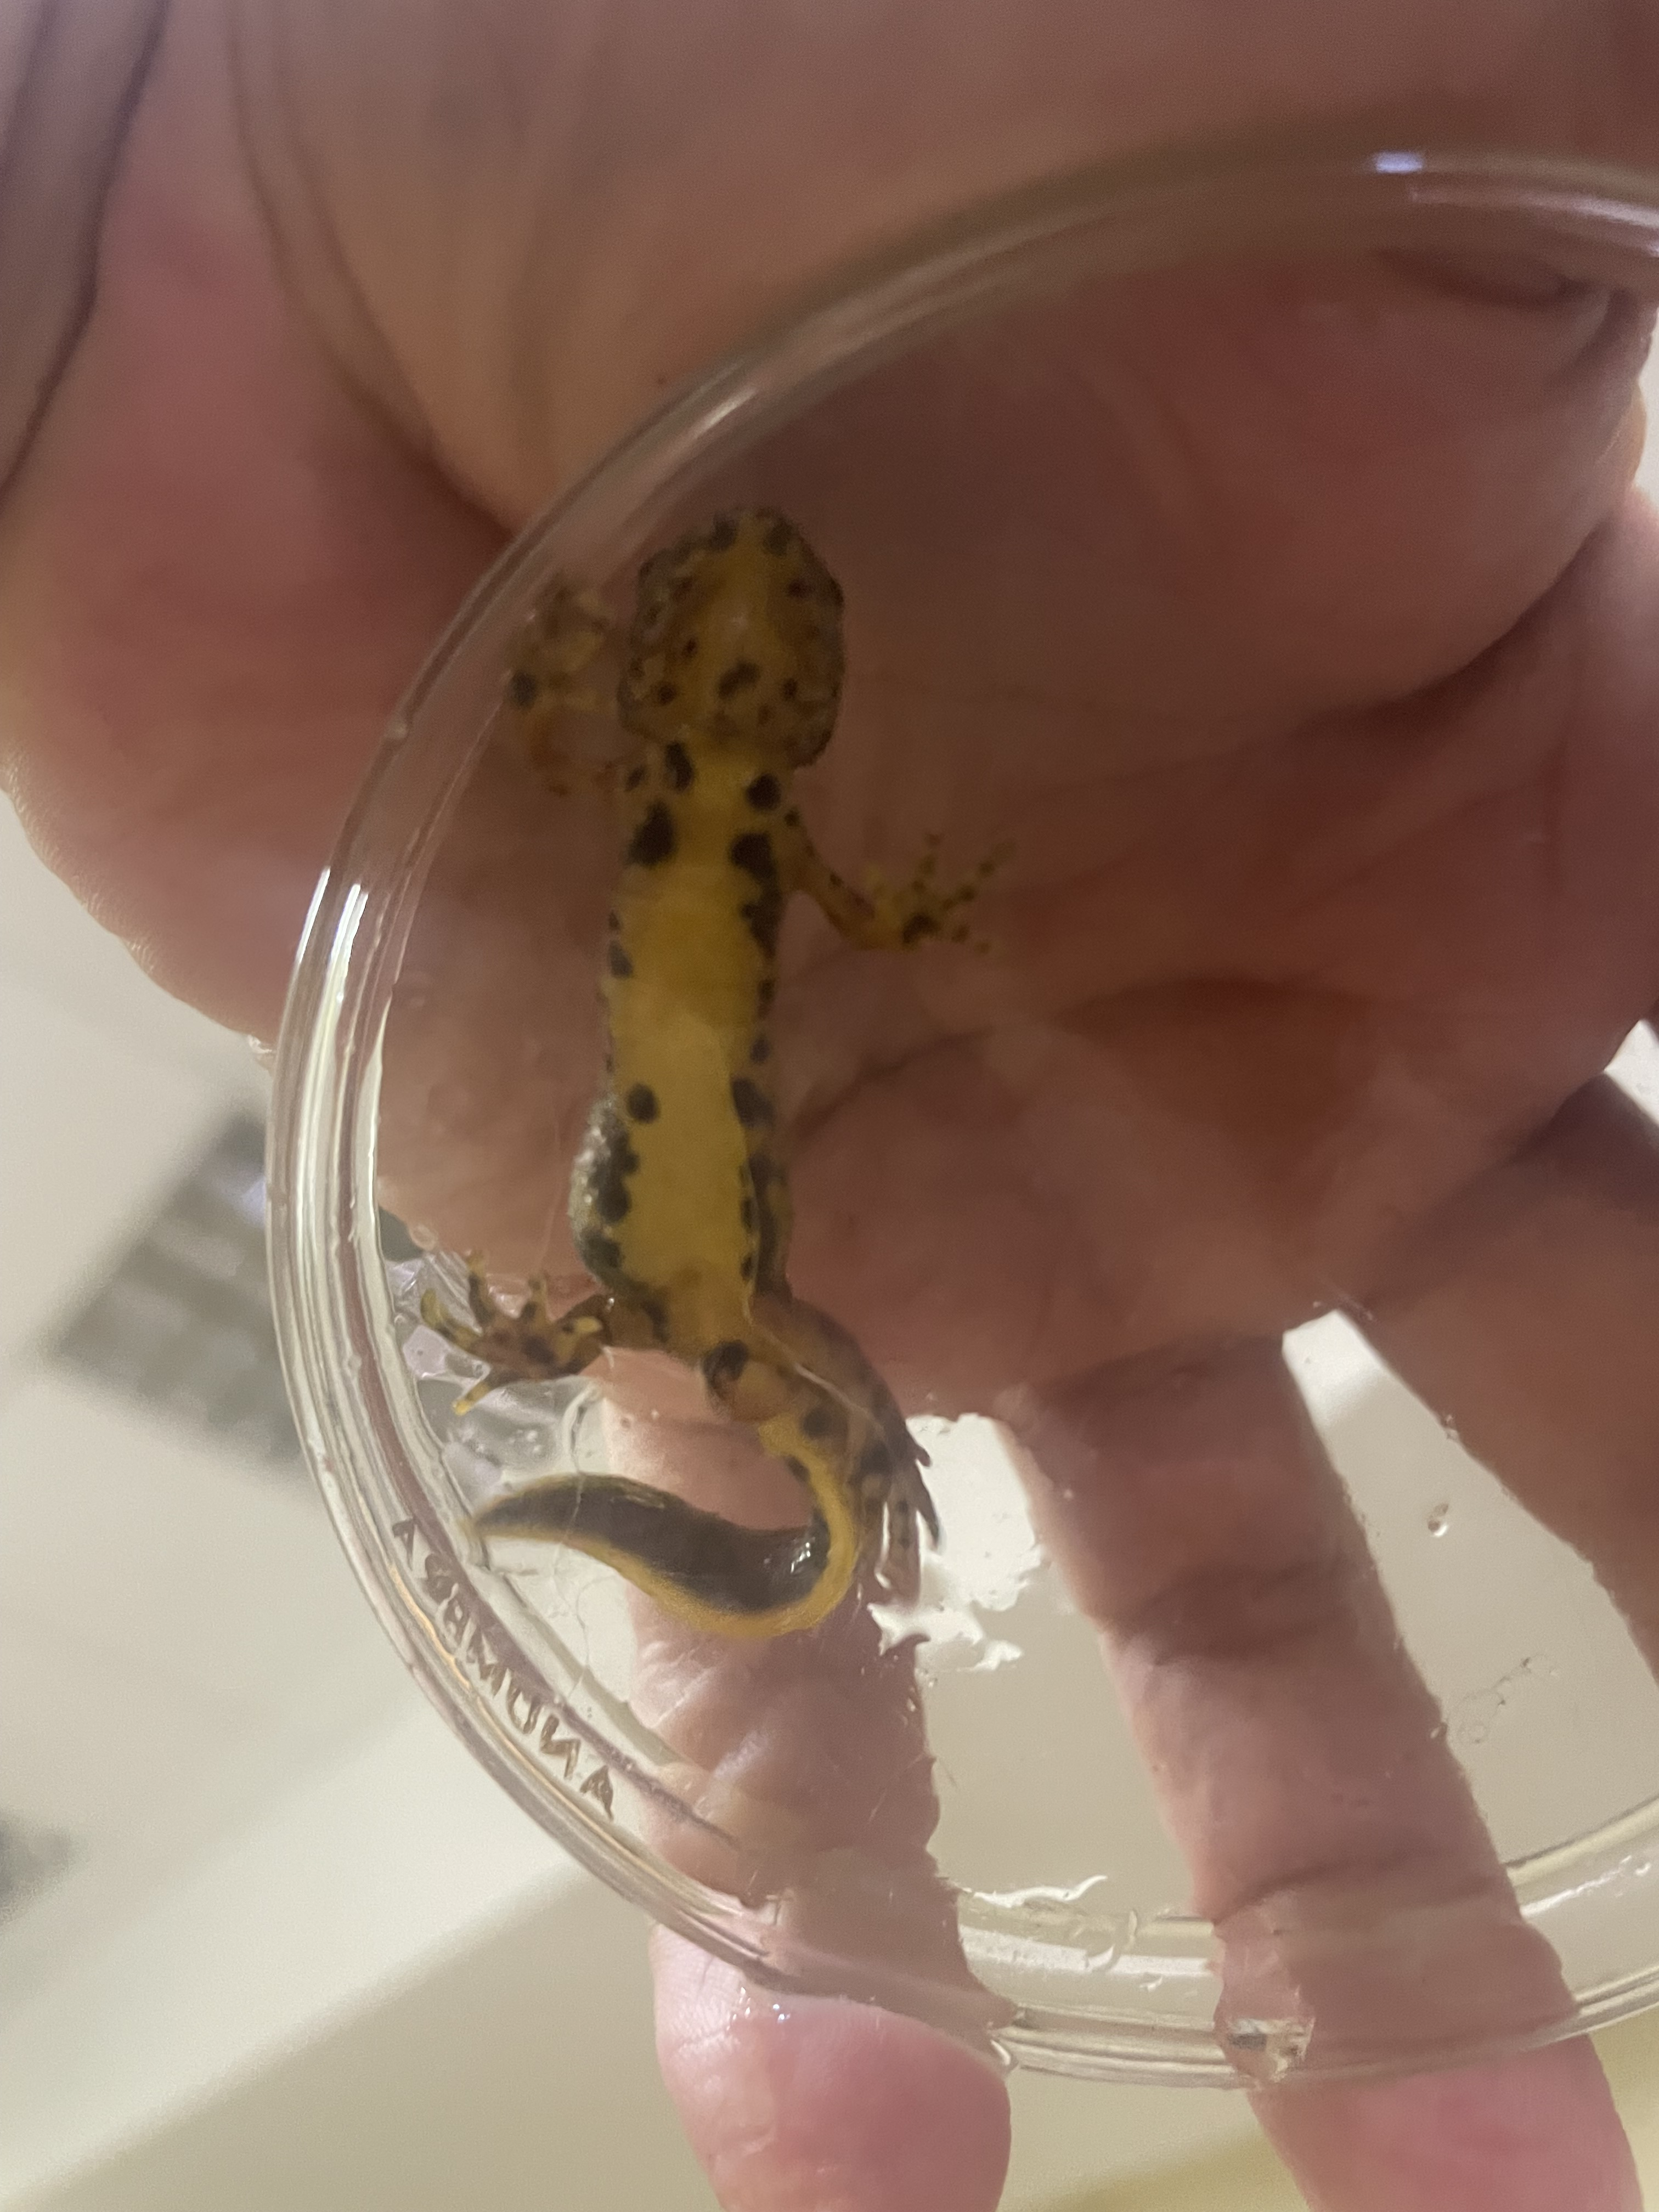Karelin_newt: (568, 794, 798, 1289)
